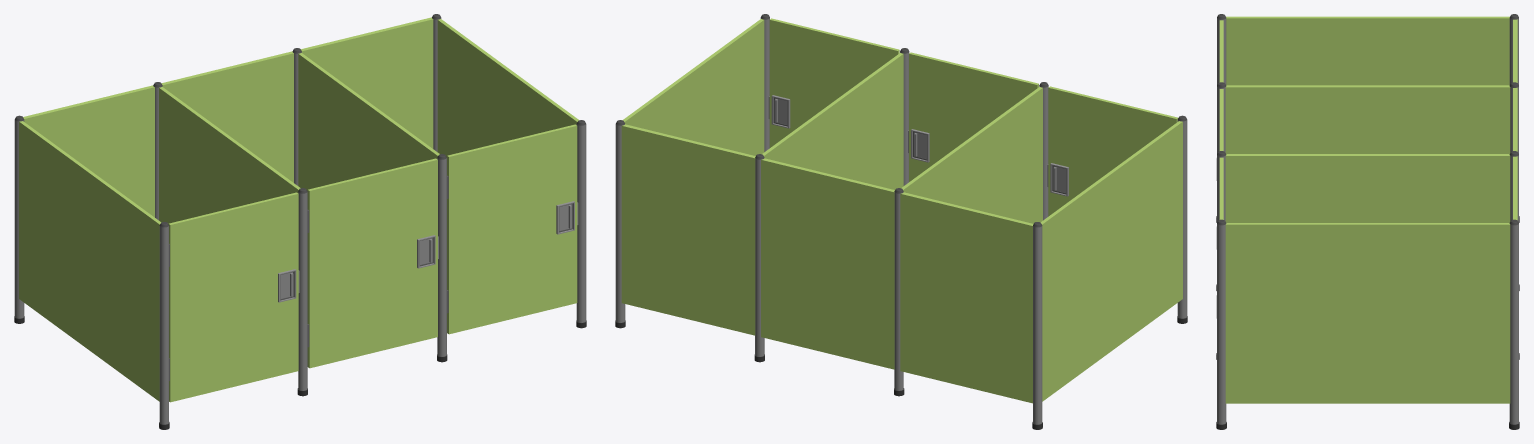
File: Multiple Bathroom Stalls Green.fbx
The picture shows the model from 3 angles, left to right: view 1: azimuth 30°, elevation 25°; view 2: azimuth 150°, elevation 25°; view 3: azimuth 270°, elevation 25°; orthographic projection.
Parts seen in each view (by area): view 1: Multiple Bathroom Stalls Green; view 2: Multiple Bathroom Stalls Green; view 3: Multiple Bathroom Stalls Green.
Boxes of the visible parts, x1,y1,x2,y2 form: Multiple Bathroom Stalls Green: [14, 14, 586, 429]; Multiple Bathroom Stalls Green: [615, 14, 1187, 429]; Multiple Bathroom Stalls Green: [1216, 14, 1519, 429].
Size of the model in its own units: 468 by 215 by 286.
1 material, 1 textured.
